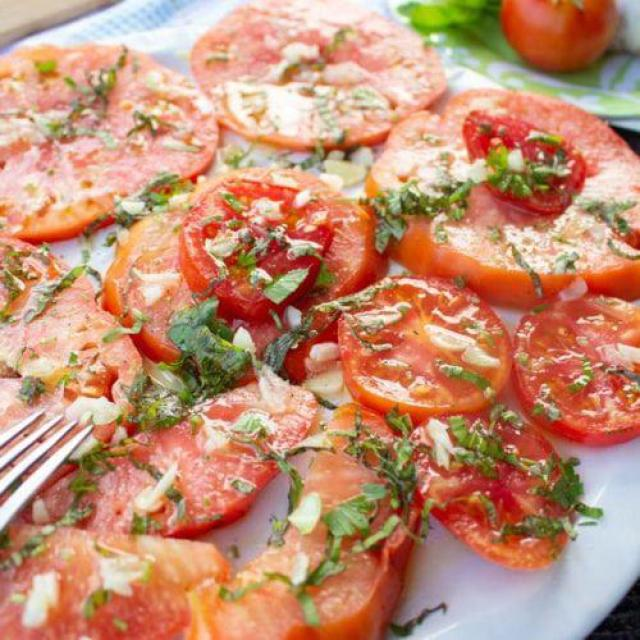Tomato: (335, 277, 515, 419), (517, 289, 640, 444), (187, 177, 330, 308)
